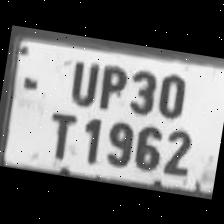0: (152, 66, 192, 118)
1: (72, 108, 108, 166)
2: (158, 122, 197, 178)
3: (122, 61, 160, 116)
6: (130, 117, 167, 173)
9: (98, 113, 136, 168)
P: (92, 58, 130, 110)
T: (39, 104, 83, 164)
U: (62, 54, 103, 106)
